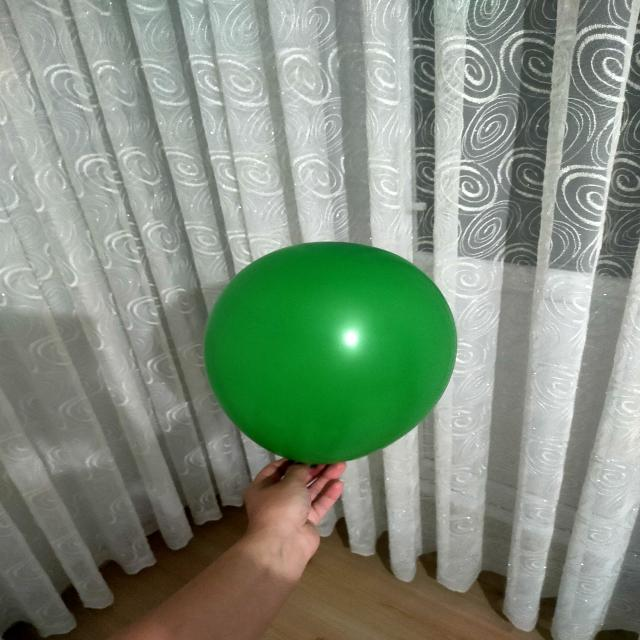green: (208, 243, 456, 465)
